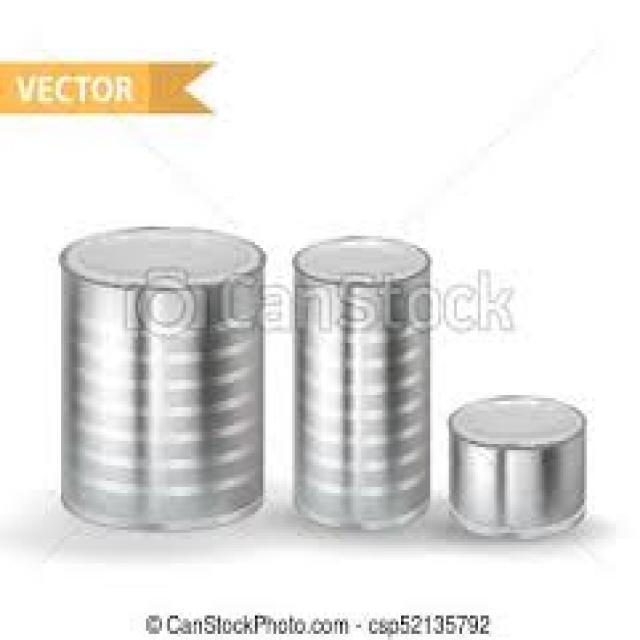metal-can: (59, 217, 266, 536), (291, 231, 433, 536), (448, 392, 584, 536)
